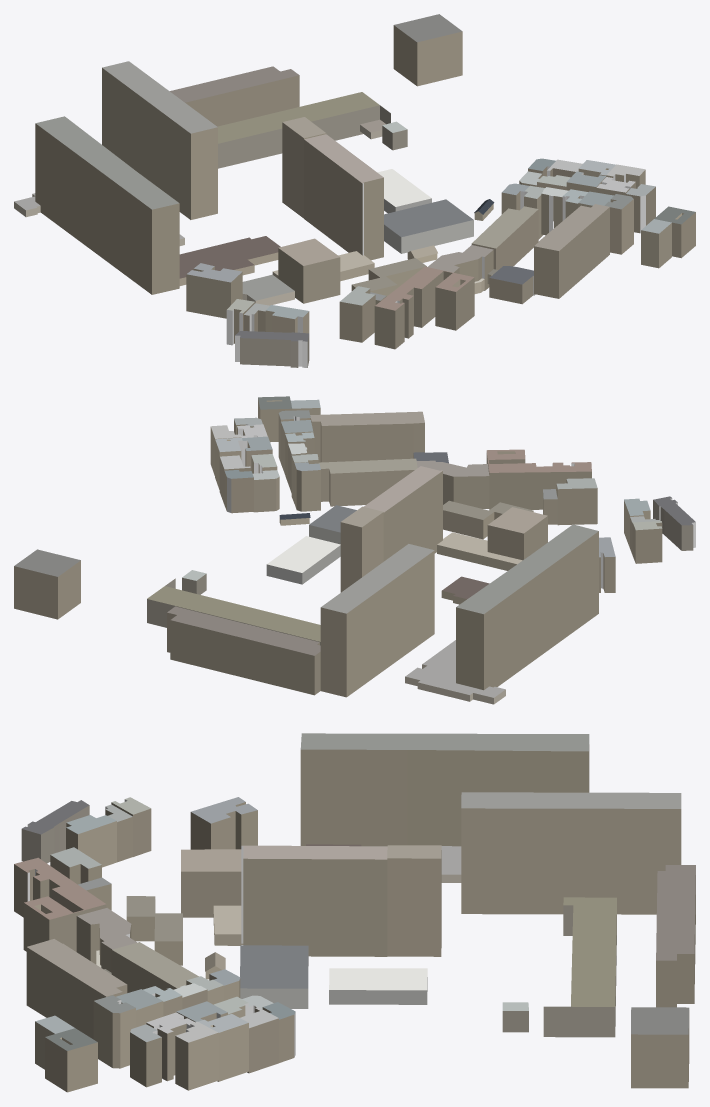
3 views of the same model, one above another, from view 1: azimuth 30°, elevation 25°; view 2: azimuth 150°, elevation 25°; view 3: azimuth 270°, elevation 25° (orthographic). The views are drawn at different scales.
Visible parts, largest first — view 1: tuile; view 2: tuile; view 3: tuile.
Part boxes in pixels (x1,y1,x2,y2): tuile: (14, 14, 695, 367); tuile: (14, 396, 695, 704); tuile: (14, 733, 695, 1092).
Bounding box in the file's own units: 260 × 47.21 × 271.
